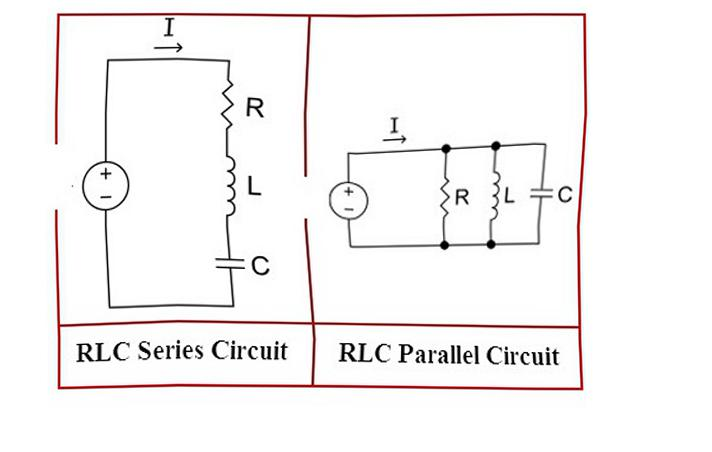Battery: (68, 148, 134, 224), (313, 166, 374, 236)
